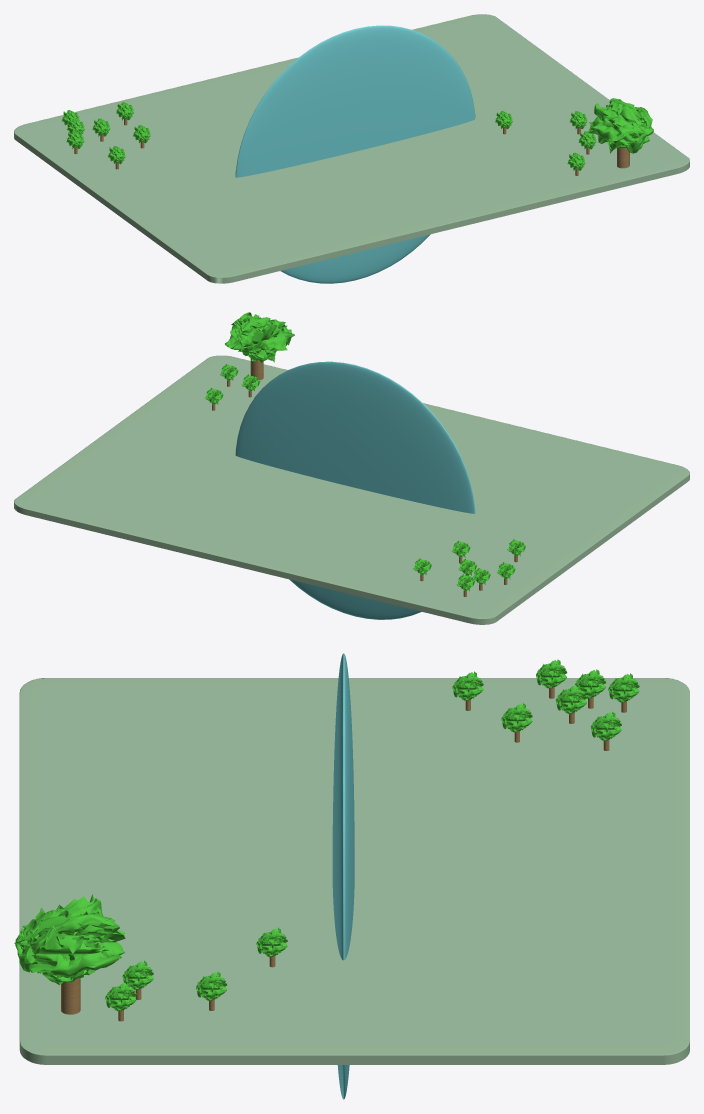
Rendered from park4.glb.
The picture shows the model from 3 angles, top to bottom: view 1: azimuth 30°, elevation 25°; view 2: azimuth 150°, elevation 25°; view 3: azimuth 270°, elevation 25°; orthographic projection. The views are drawn at different scales.
Parts seen in each view (by area): view 1: land, water, Torus 3, Torus 2, Torus; view 2: land, water, Torus 3, Torus 2, Torus, Torus 1; view 3: land, water, Torus 3, Torus 2, Torus 1, Torus.
Part boxes in pixels (x1=…): land: x1=14, y1=14, x2=689, y2=283; water: x1=235, y1=25, x2=475, y2=283; Torus 3: x1=587, y1=116, x2=652, y2=153; Torus 2: x1=606, y1=98, x2=653, y2=153; Torus: x1=594, y1=103, x2=645, y2=138; land: x1=14, y1=355, x2=689, y2=624; water: x1=235, y1=361, x2=475, y2=619; Torus 3: x1=225, y1=326, x2=294, y2=355; Torus 2: x1=235, y1=314, x2=274, y2=362; Torus: x1=238, y1=319, x2=287, y2=358; Torus 1: x1=230, y1=312, x2=276, y2=363; land: x1=19, y1=678, x2=689, y2=1064; water: x1=332, y1=653, x2=354, y2=1099; Torus 3: x1=15, y1=904, x2=124, y2=976; Torus 2: x1=22, y1=911, x2=125, y2=974; Torus 1: x1=14, y1=926, x2=109, y2=960; Torus: x1=15, y1=894, x2=103, y2=985.
Size of the model in its own units: 4 by 2 by 3.03.
Materials: 72 (14 with a texture image).
